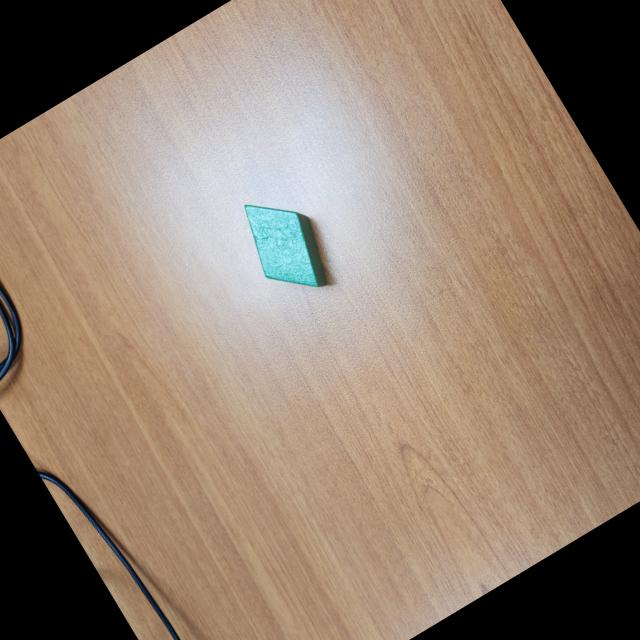green: (230, 180, 344, 309)
